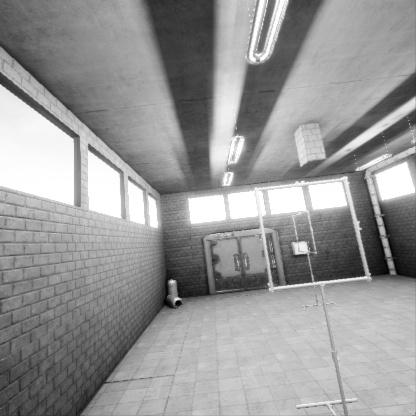gate: (255, 131, 371, 239), (292, 164, 316, 207)
